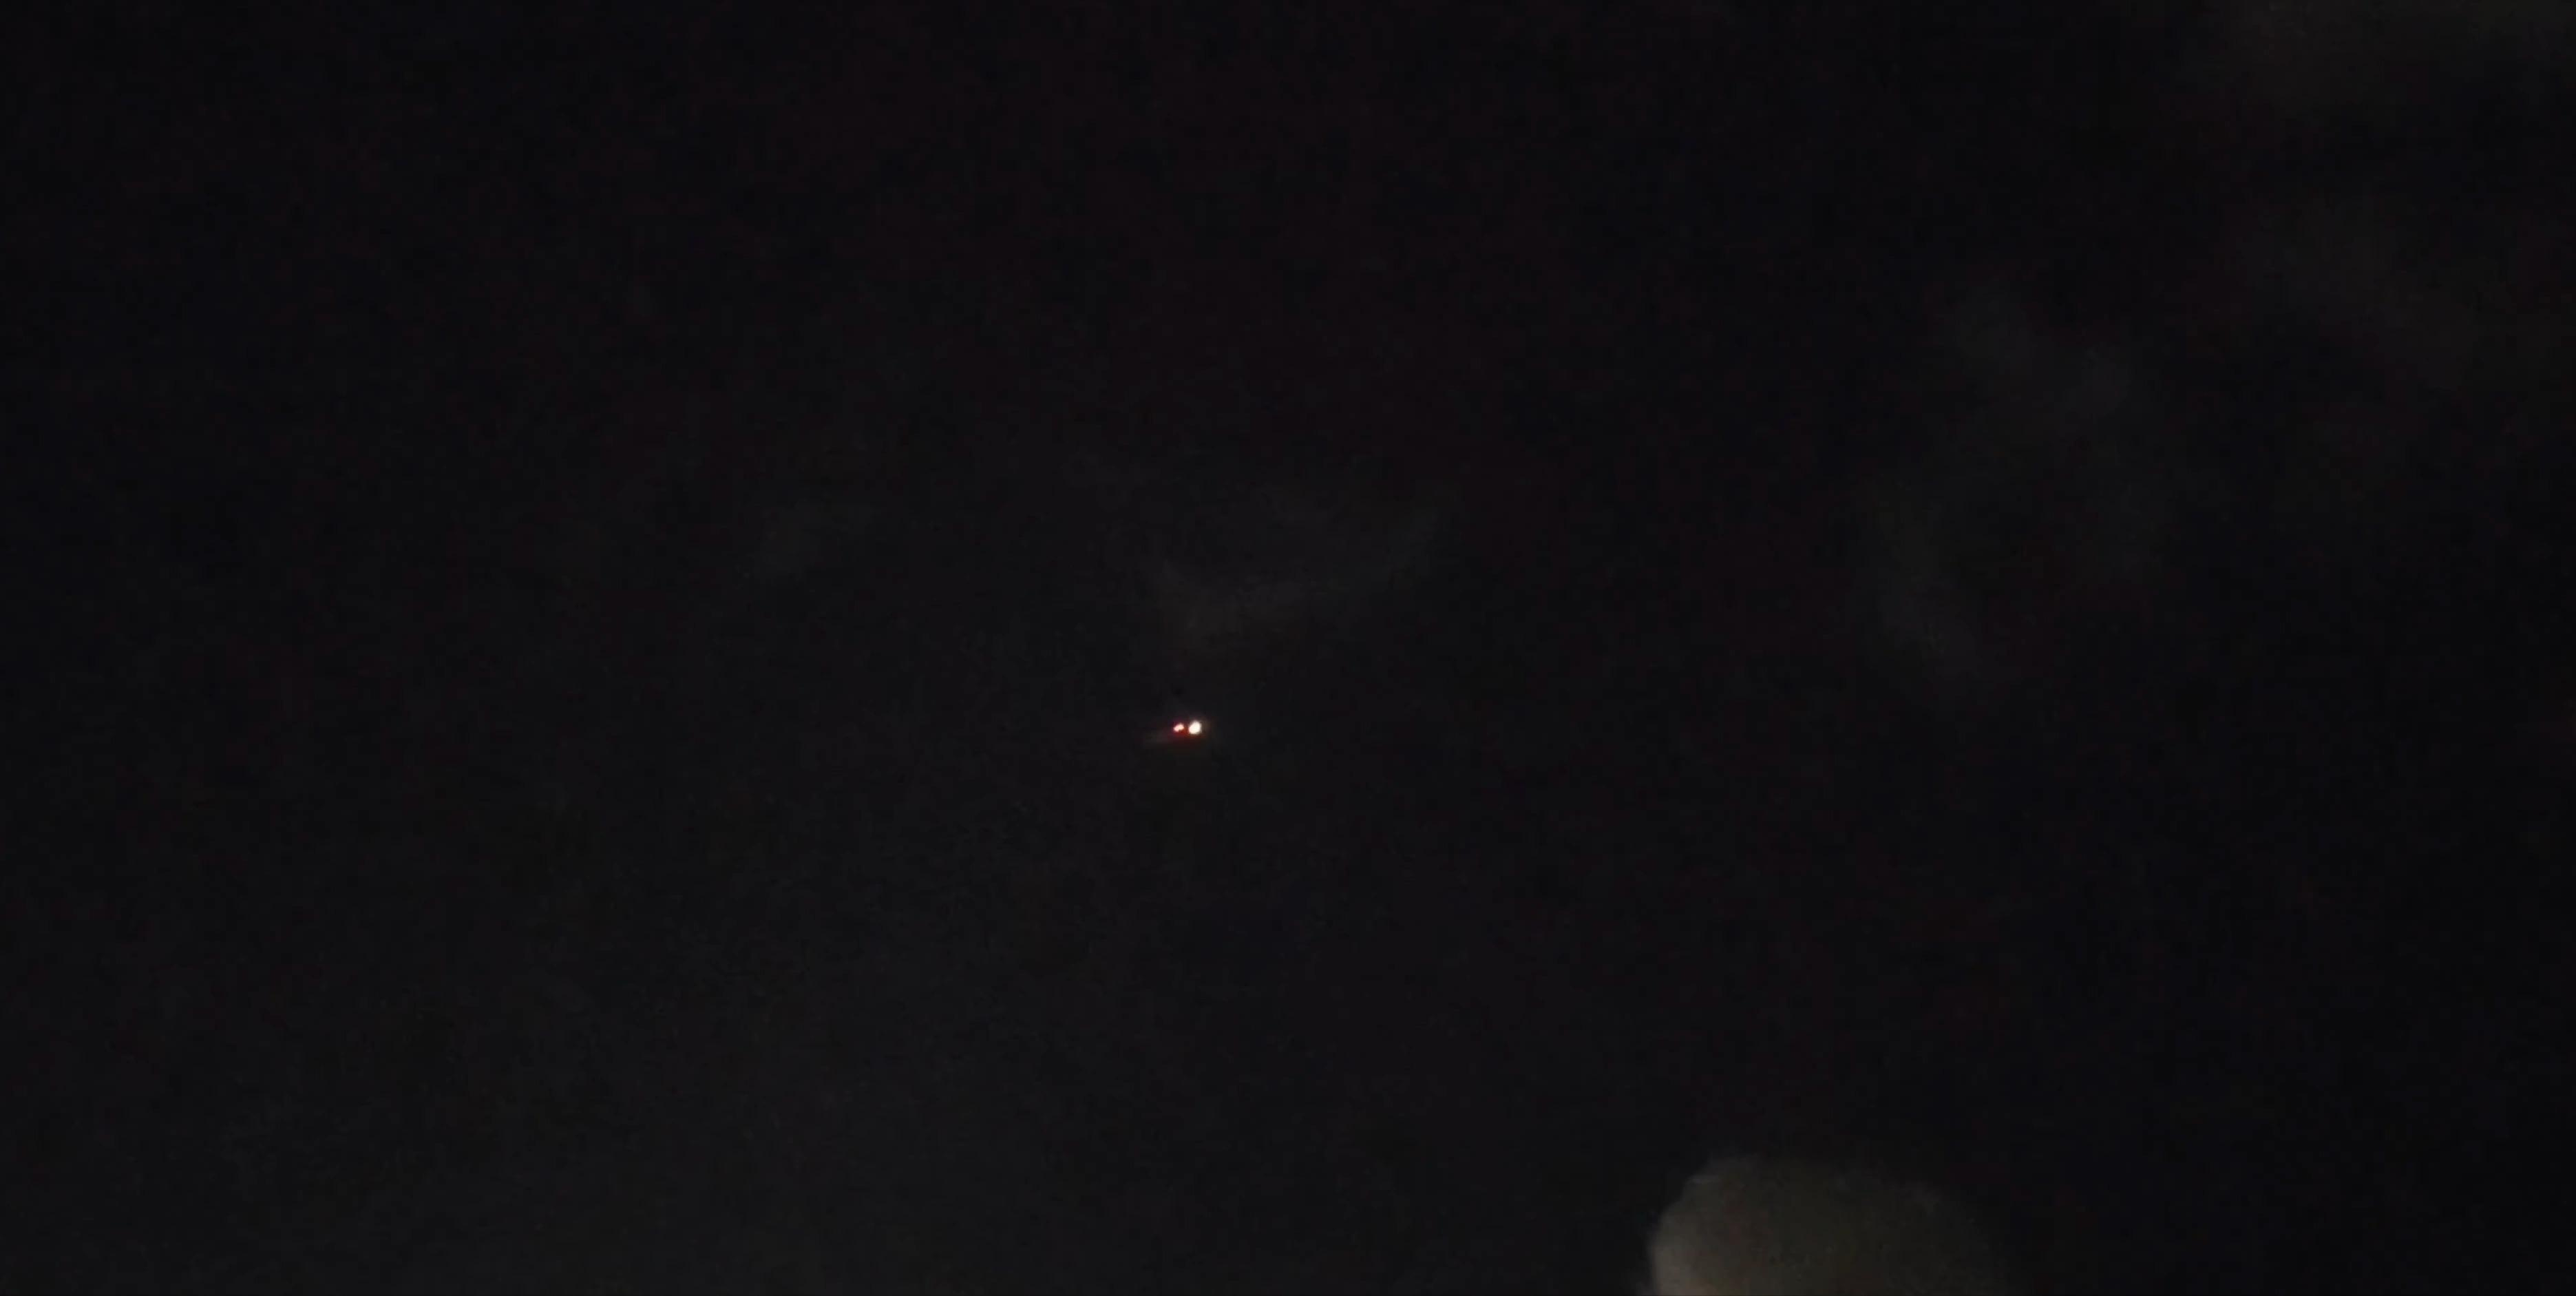Plane: (1094, 696, 1272, 770)
